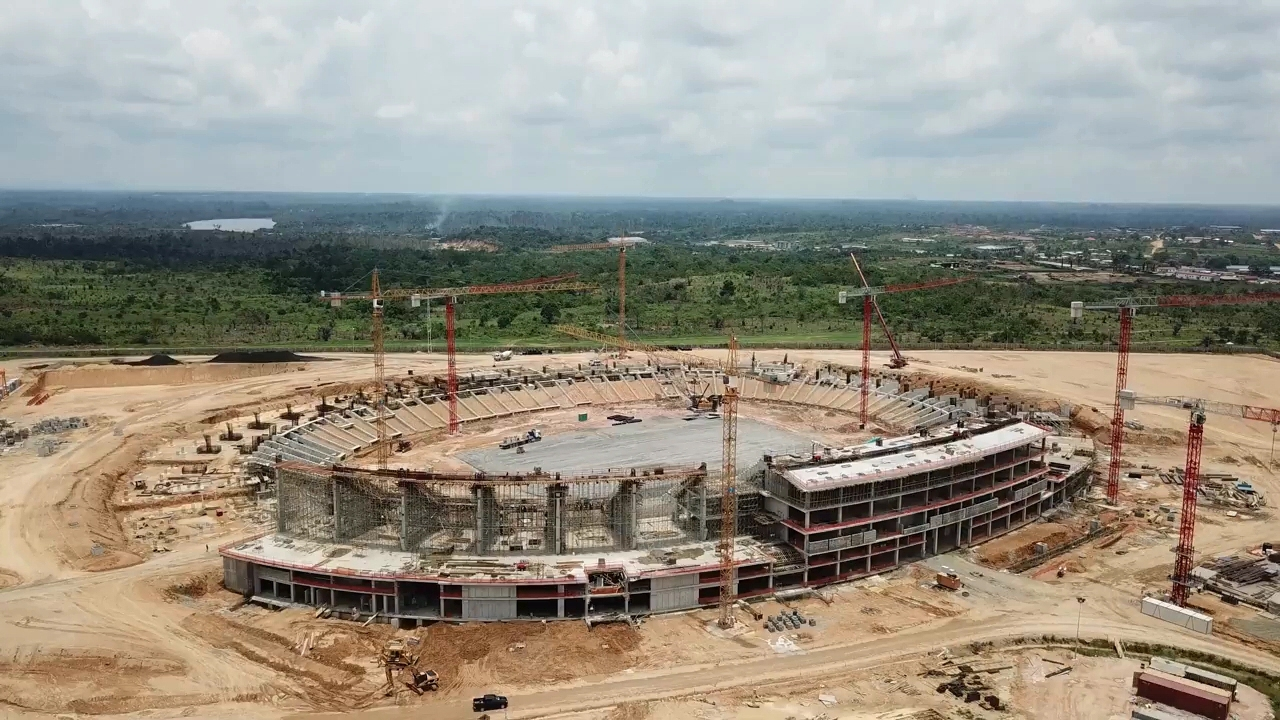ismakinesi: (380, 656, 444, 700)
kamyon: (500, 427, 547, 451)
kamyonet: (471, 689, 508, 710)
